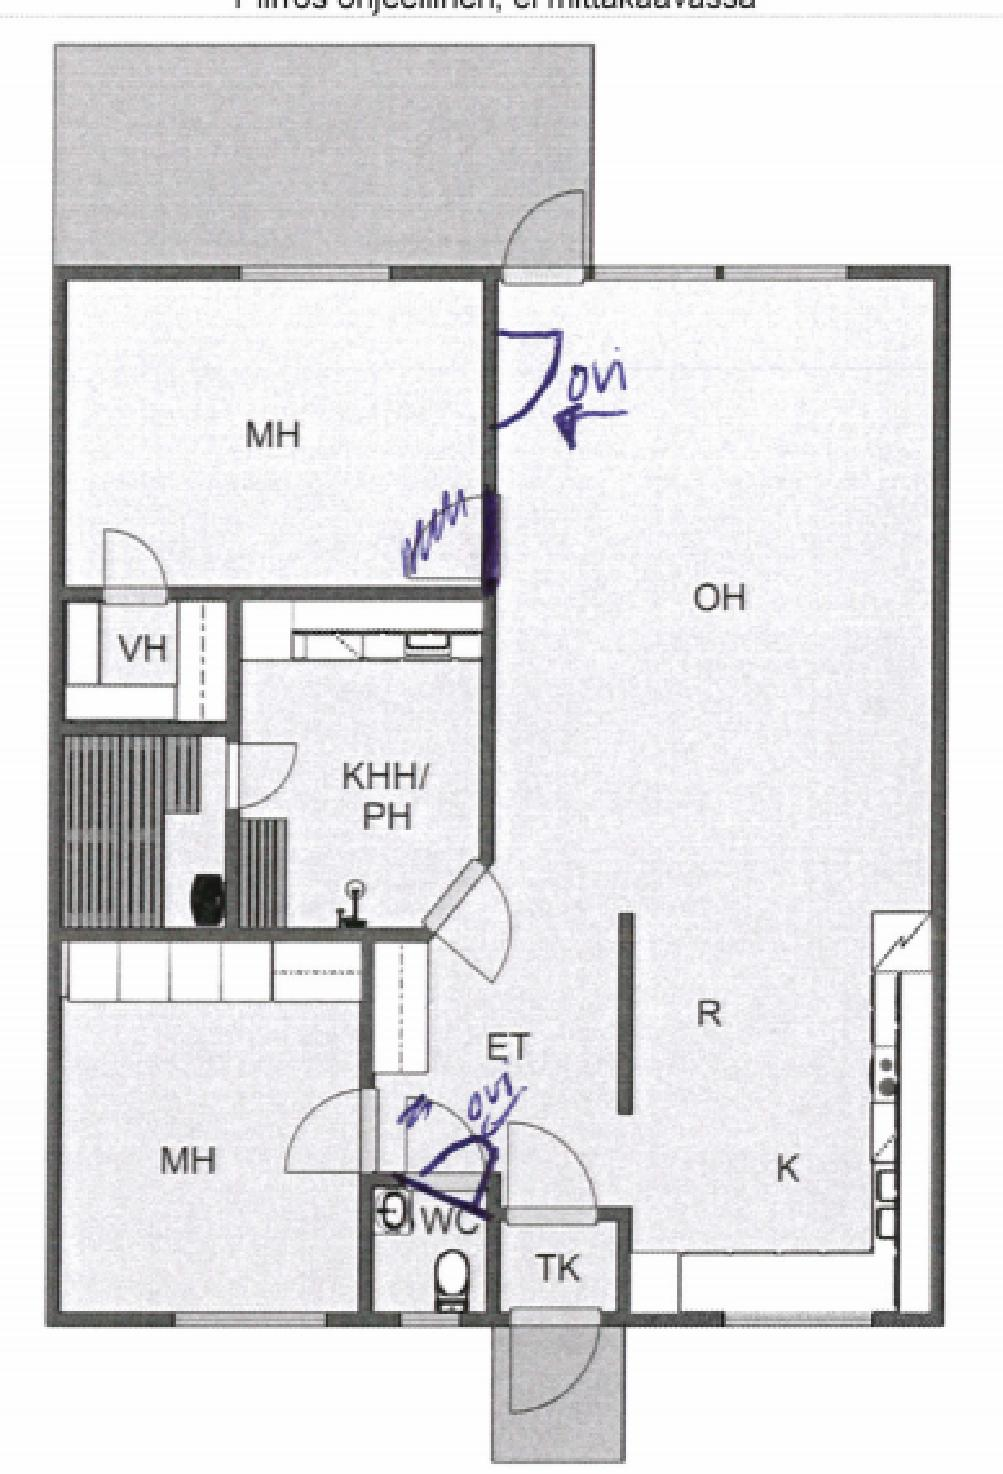door: (413, 860, 538, 1001), (496, 1107, 604, 1234), (268, 1091, 390, 1187), (507, 1309, 607, 1426), (493, 187, 596, 295), (399, 1087, 488, 1201), (99, 524, 177, 609), (221, 744, 312, 815)
window: (713, 257, 855, 285), (174, 1307, 326, 1332), (596, 259, 719, 288), (229, 263, 387, 284), (723, 1309, 874, 1329), (399, 1305, 462, 1334)
zone: (390, 291, 949, 1313), (69, 273, 482, 586), (54, 37, 593, 267), (58, 941, 363, 1312), (237, 597, 476, 935), (65, 735, 226, 929), (65, 604, 219, 716), (504, 1215, 619, 1326), (376, 1193, 480, 1309)
